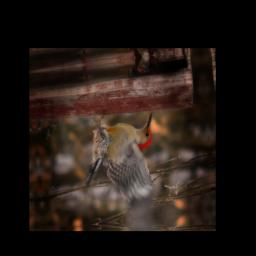Woodpecker: (79, 111, 164, 223)
